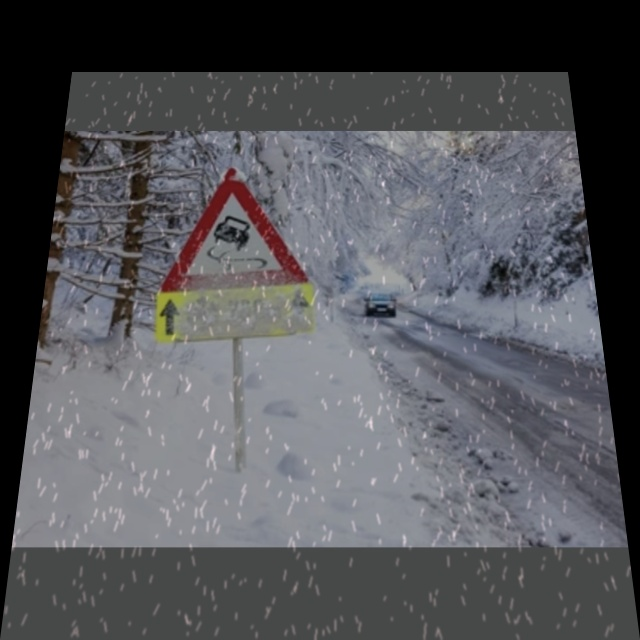Slippery_Road: (161, 162, 301, 303)
